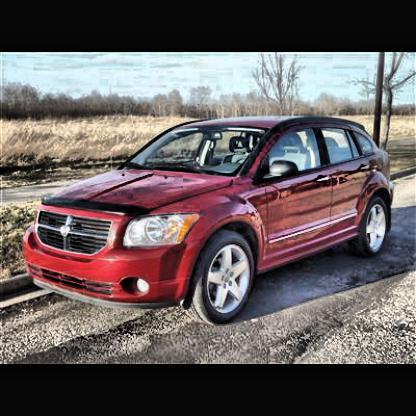Dodge Caliber Wagon 2007: (24, 119, 396, 327)
